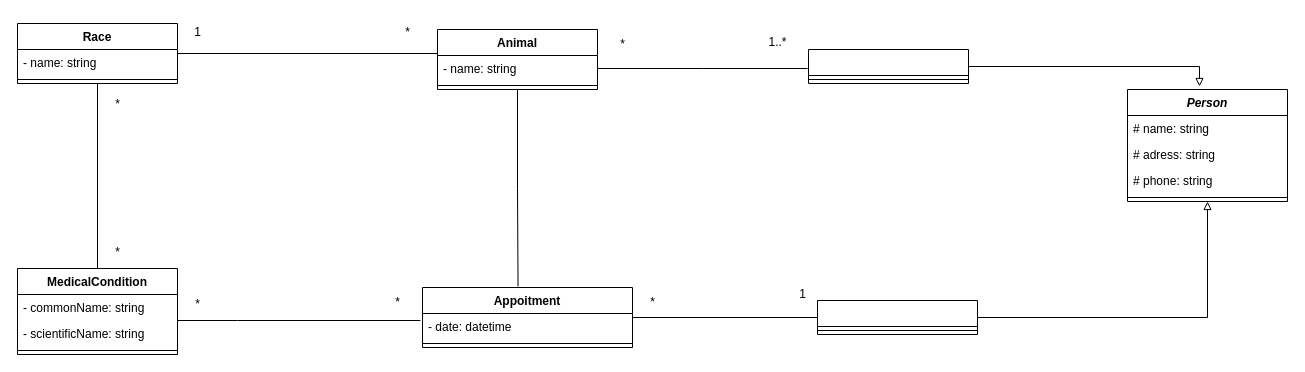
This 1305x372 diagram has some shape labels left out. Each missing label, with the centre of its shape:
Owner: point (888, 66)
Veterinary: point (897, 317)
